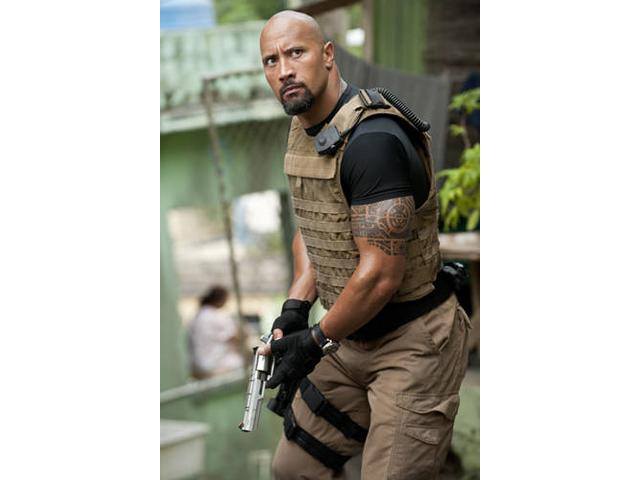pistol: (239, 333, 310, 433)
